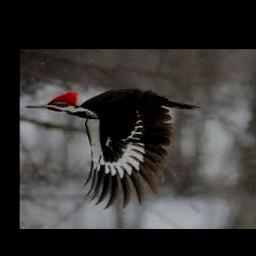Woodpecker: (24, 89, 200, 207)
